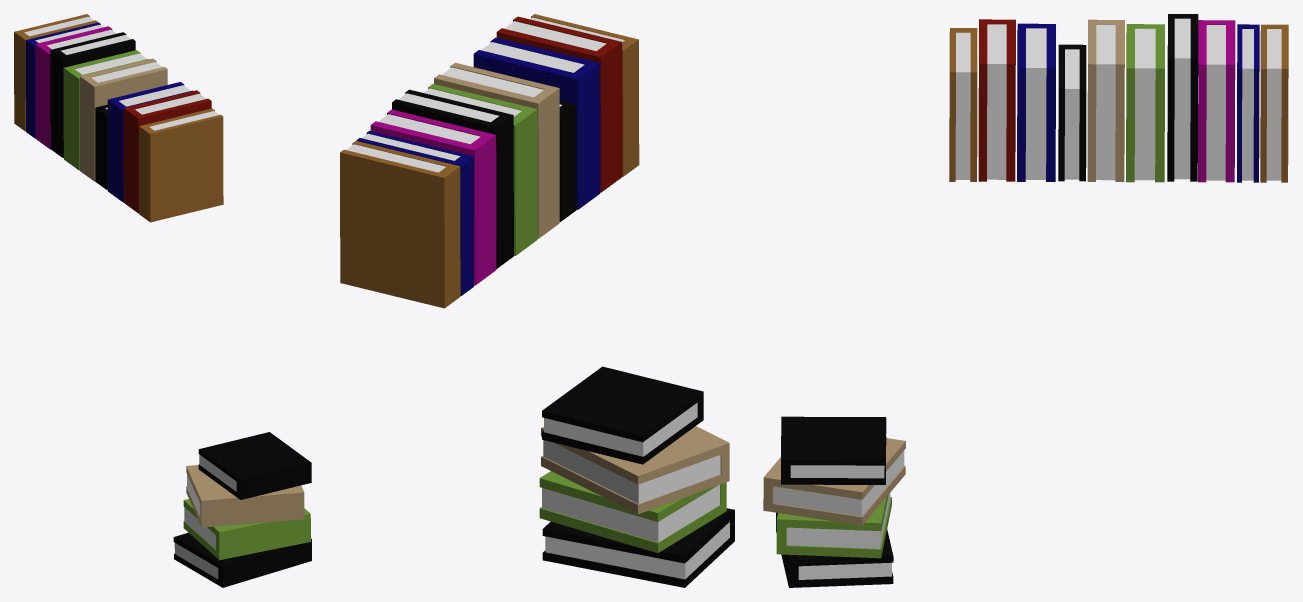
File: Books.glb
3 renders of one model, left to right at view 1: azimuth 30°, elevation 25°; view 2: azimuth 150°, elevation 25°; view 3: azimuth 270°, elevation 25°, orthographic. The views are drawn at different scales.
Visible parts, largest first — view 1: Books; view 2: Books; view 3: Books.
Part boxes in pixels (box(x1,y1,x2,y2)): Books: box(14, 14, 311, 587); Books: box(340, 14, 734, 587); Books: box(763, 14, 1288, 587).
Bounding box in the file's own units: 0.9937 × 3.59 × 3.31.
